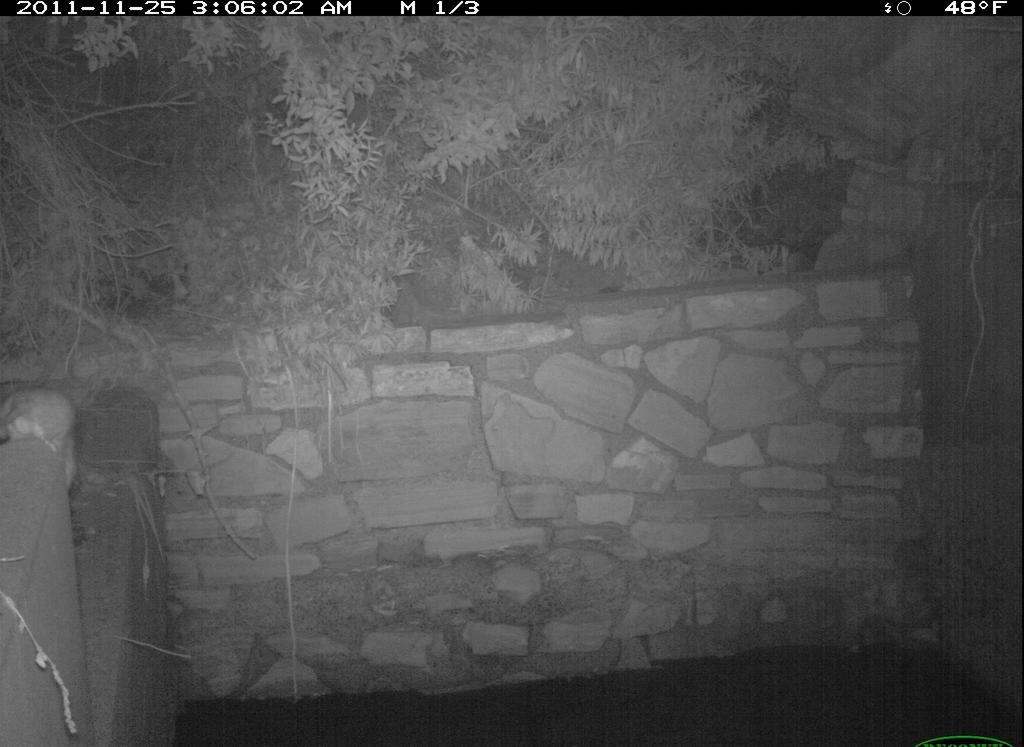rodent: (1, 379, 84, 506)
